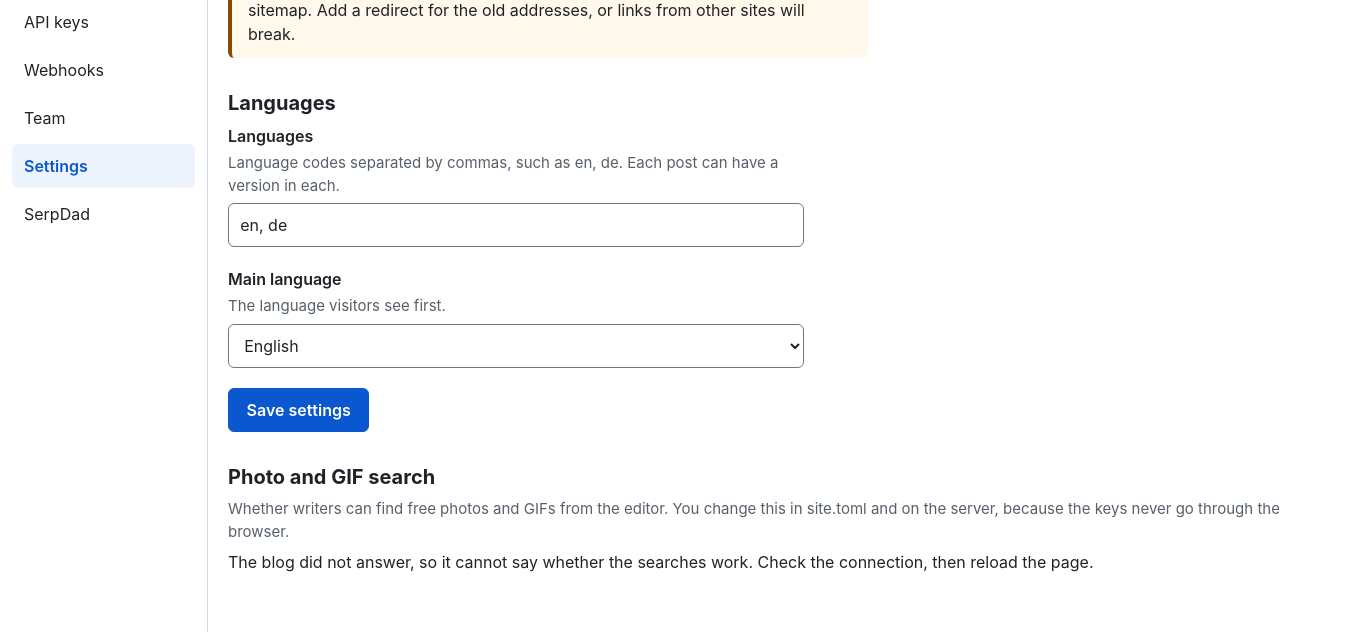
Test: the Settings screen › sends the languages as a list, and nothing when nothing changed
(page scrolled)
Step 1. Click the button "Save settings" → (299, 410), box [228, 388, 369, 432]
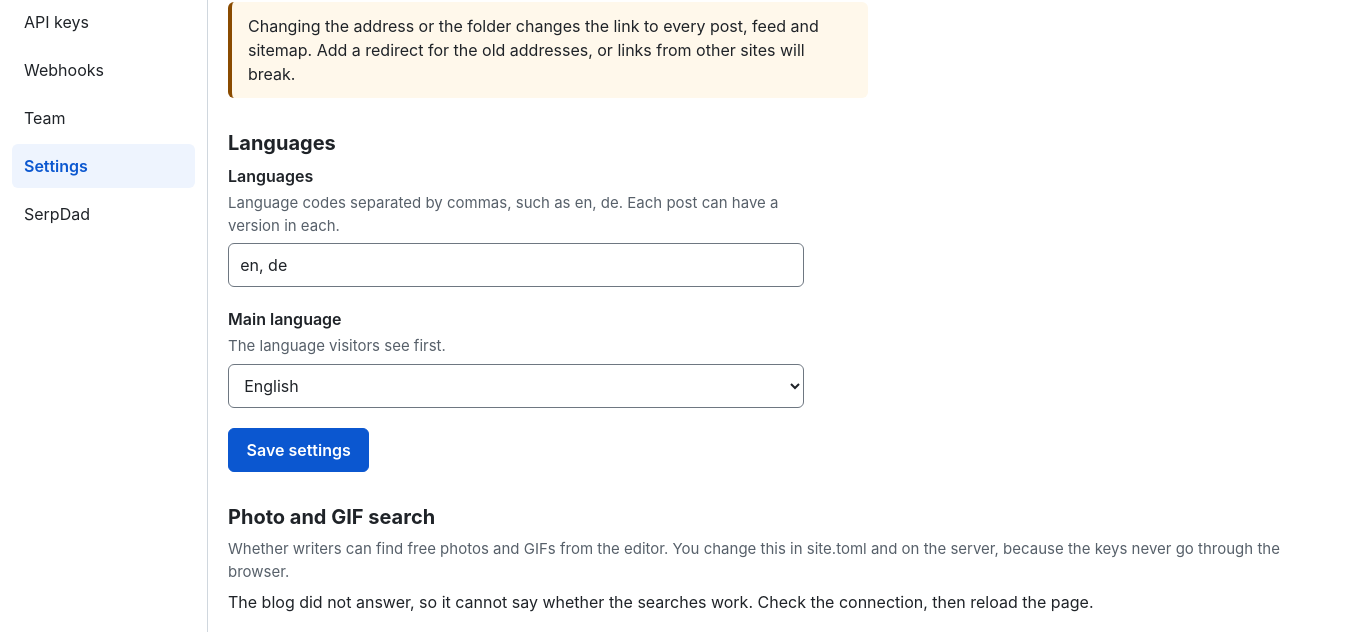
Step 2. Type ", FR" into the field labelled "Languages" → (516, 266), box [228, 244, 804, 288]
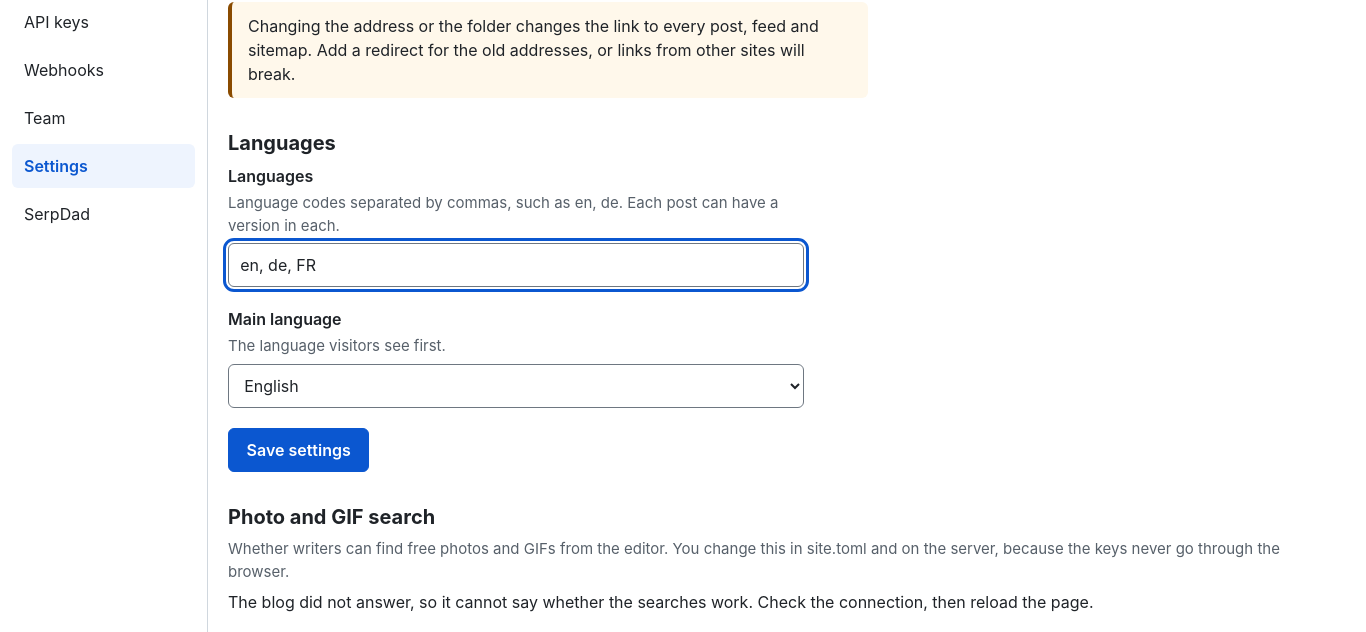
Step 3. Click the button "Save settings" → (299, 450), box [228, 428, 369, 472]
(page scrolled)
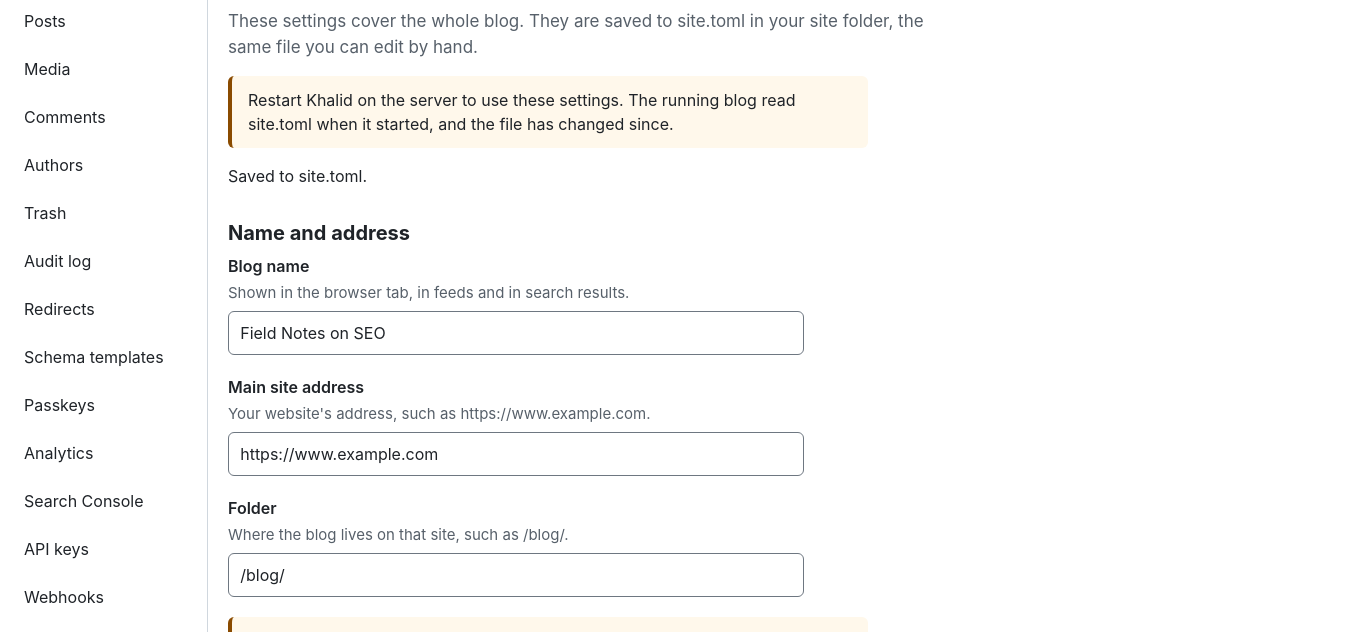
Check: the text "Saved to site.toml." is shown, box [228, 166, 367, 186]
